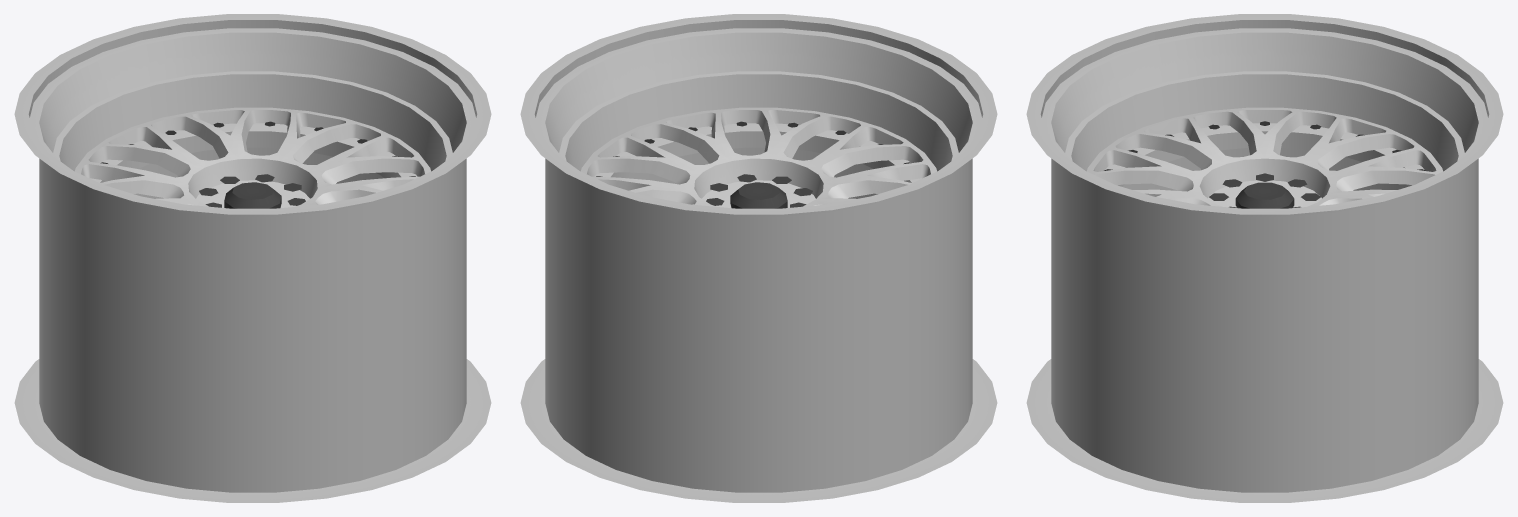
The model's file is Wheels_Free.fbx.
The picture shows the model from 3 angles, left to right: view 1: azimuth 30°, elevation 25°; view 2: azimuth 150°, elevation 25°; view 3: azimuth 270°, elevation 25°; orthographic projection.
Visible parts, largest first — view 1: XXR_521; view 2: XXR_521; view 3: XXR_521.
Boxes of the visible parts, <box> form: XXR_521: <box>14,14,491,502</box>; XXR_521: <box>520,14,997,502</box>; XXR_521: <box>1026,14,1503,502</box>.
Bounding box in the file's own units: 0.3012 × 0.2021 × 0.3029.
